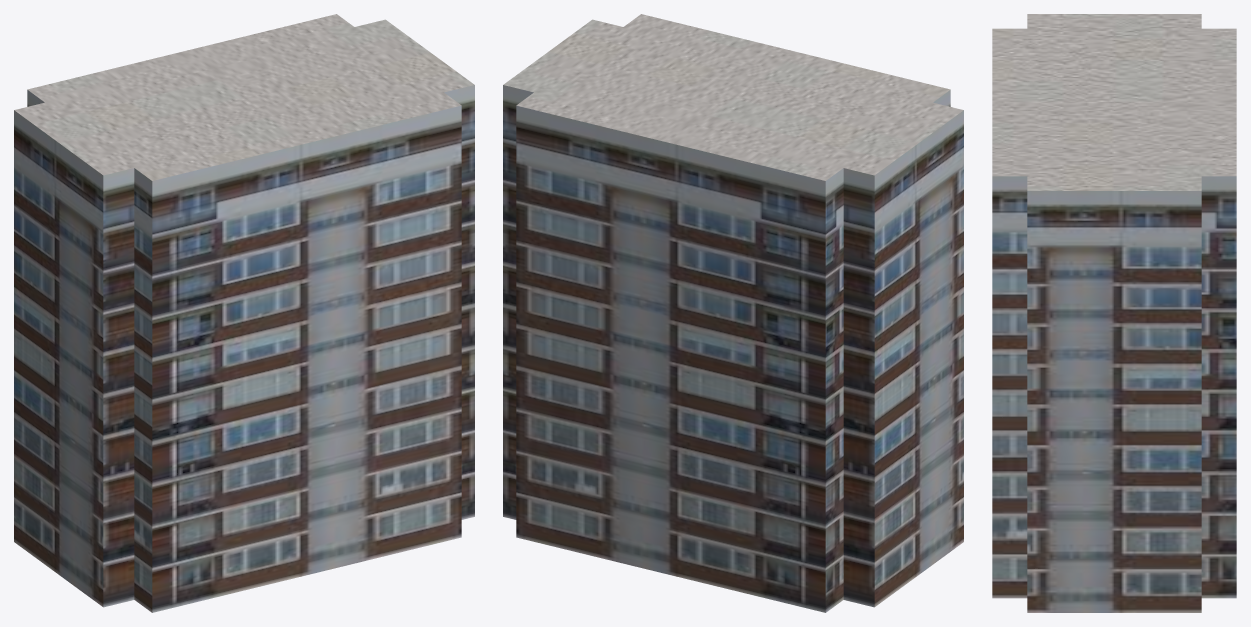
The model's file is building_028.glb.
The picture shows the model from 3 angles, left to right: view 1: azimuth 30°, elevation 25°; view 2: azimuth 150°, elevation 25°; view 3: azimuth 270°, elevation 25°; orthographic projection. The views are drawn at different scales.
Parts seen in each view (by area): view 1: building_028; view 2: building_028; view 3: building_028.
Part boxes in pixels (box(x1,y1,x2,y2)): building_028: box(14, 14, 474, 612); building_028: box(503, 14, 963, 612); building_028: box(992, 14, 1236, 612).
Size of the model in its own units: 1800 by 2000 by 1050.
Materials: 2 (2 with a texture image).
